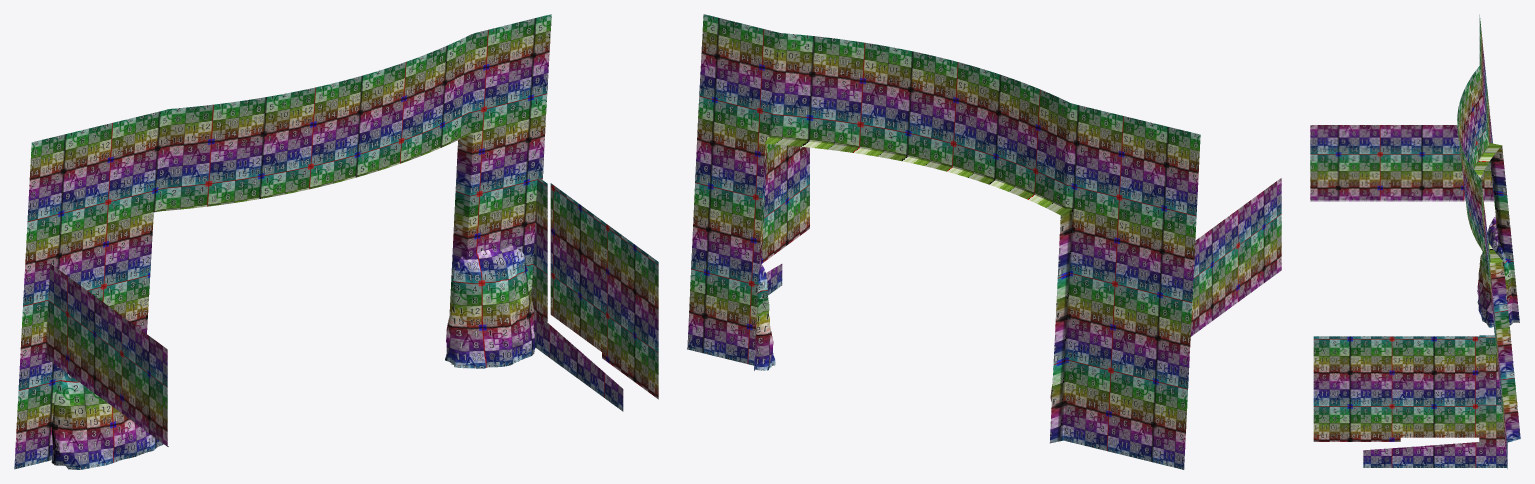
Rendered from Template_v2016.FBX.
3 views of the same model, side by side, from view 1: azimuth 30°, elevation 25°; view 2: azimuth 150°, elevation 25°; view 3: azimuth 270°, elevation 25° (orthographic). The views are drawn at different scales.
Parts seen in each view (by area): view 1: Front; view 2: Front; view 3: Front.
Part boxes in pixels (x1,y1,x2,y2): Front: (14, 14, 658, 469); Front: (687, 14, 1281, 469); Front: (1310, 14, 1520, 468).
Size of the model in its own units: 126 by 78.74 by 57.56.
